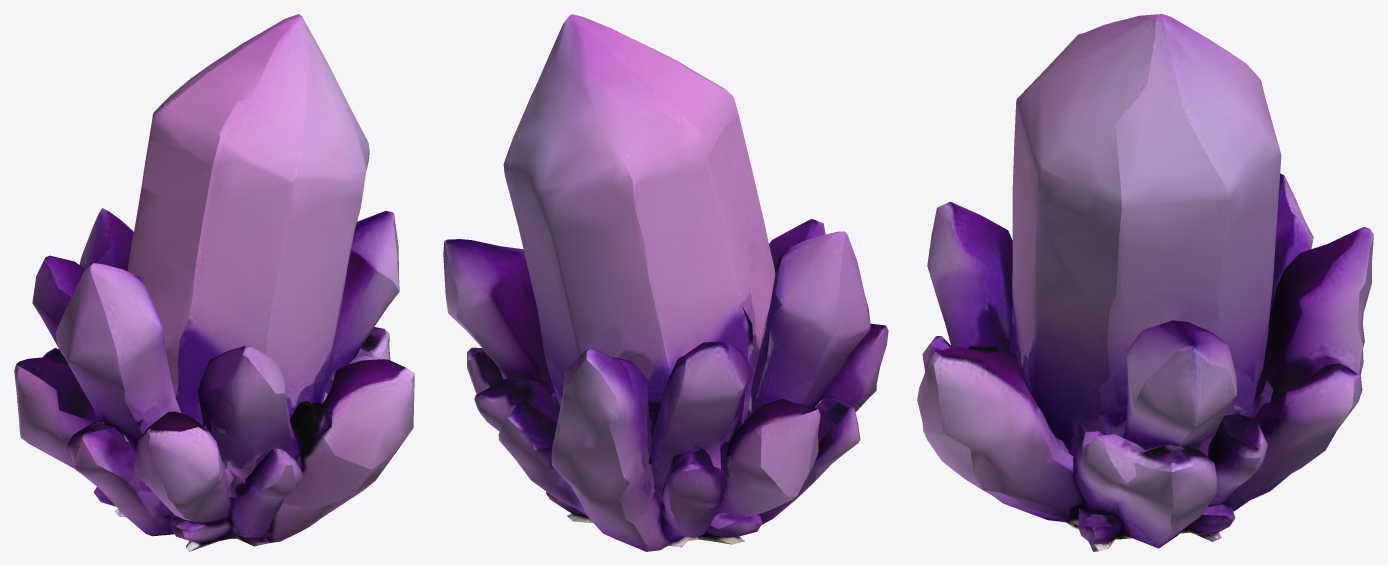
Rendered from crystal.glb.
3 views of the same model, side by side, from view 1: azimuth 30°, elevation 25°; view 2: azimuth 150°, elevation 25°; view 3: azimuth 270°, elevation 25° (orthographic). The views are drawn at different scales.
Parts seen in each view (by area): view 1: item_crystal; view 2: item_crystal; view 3: item_crystal.
Boxes of the visible parts, <box> form: item_crystal: <box>14,14,414,551</box>; item_crystal: <box>443,14,888,551</box>; item_crystal: <box>917,14,1373,551</box>.
Size of the model in its own units: 0.835 by 1 by 0.7717.
Materials: 1 (1 with a texture image).
